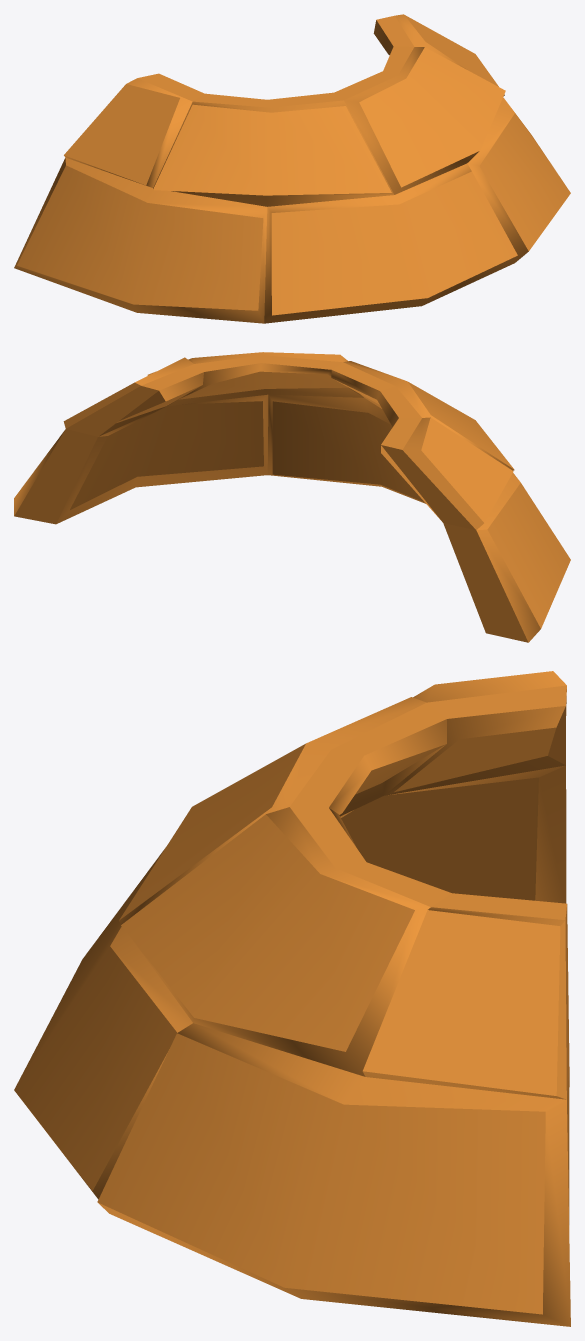
File: mudBrickKilnSectionTop.glb
The picture shows the model from 3 angles, top to bottom: view 1: azimuth 30°, elevation 25°; view 2: azimuth 150°, elevation 25°; view 3: azimuth 270°, elevation 25°; orthographic projection. The views are drawn at different scales.
Parts seen in each view (by area): view 1: Cube; view 2: Cube; view 3: Cube.
Boxes of the visible parts, x1,y1,x2,y2 form: Cube: [14, 14, 570, 323]; Cube: [14, 352, 570, 642]; Cube: [14, 671, 570, 1326].
Bounding box in the file's own units: 2.01 × 0.6107 × 1.
